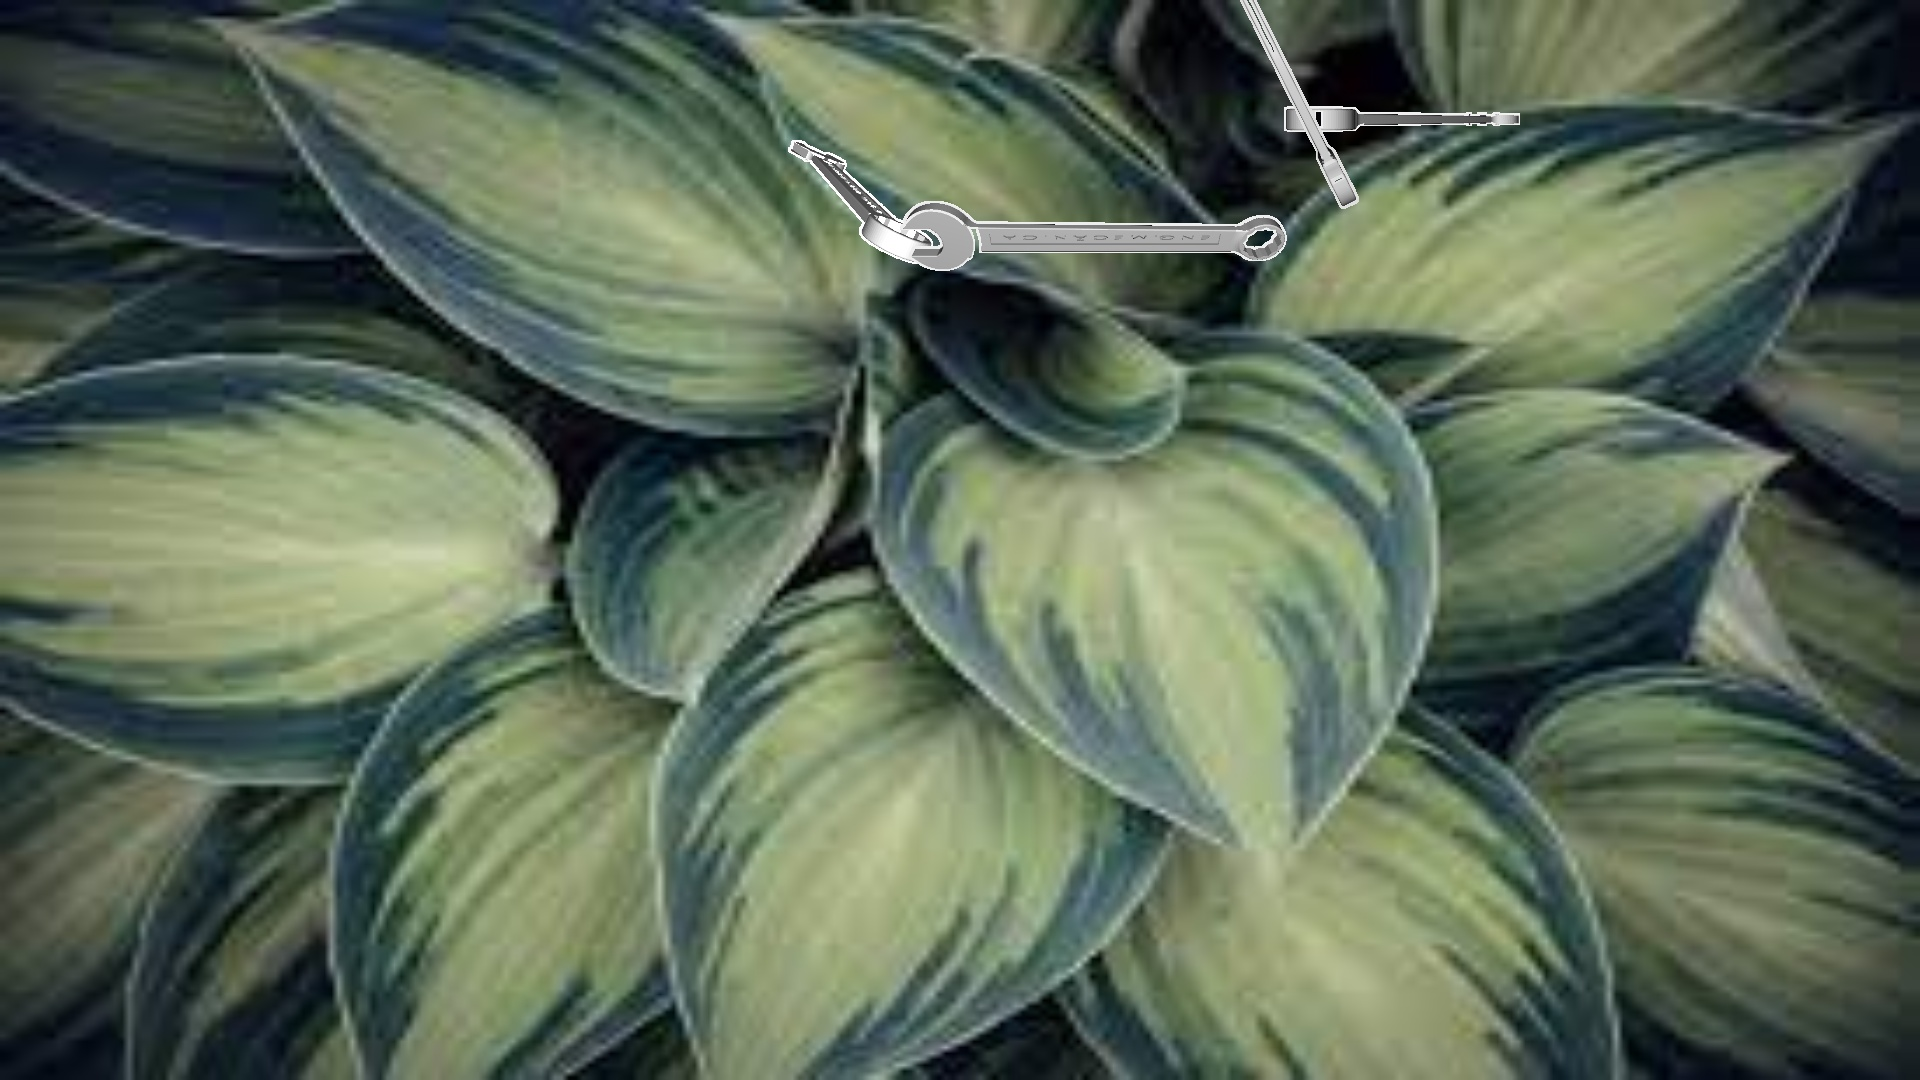Mixed Key: (901, 200, 1286, 270), (1240, 0, 1358, 208), (789, 140, 932, 262), (1284, 105, 1519, 131)
